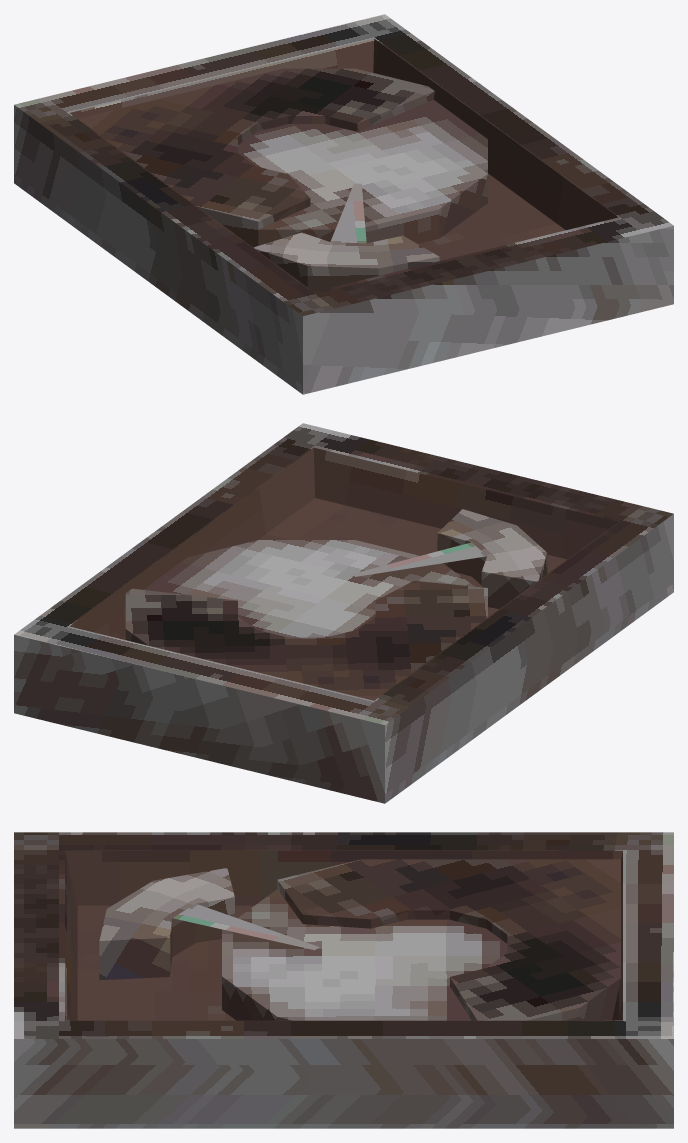
File: item_harddrive.glb
The picture shows the model from 3 angles, top to bottom: view 1: azimuth 30°, elevation 25°; view 2: azimuth 150°, elevation 25°; view 3: azimuth 270°, elevation 25°; orthographic projection. The views are drawn at different scales.
Parts seen in each view (by area): view 1: Harddrive; view 2: Harddrive; view 3: Harddrive.
Boxes of the visible parts, x1,y1,x2,y2 form: Harddrive: (14, 14, 673, 394); Harddrive: (14, 423, 673, 803); Harddrive: (14, 832, 673, 1128).
Size of the model in its own units: 0.3291 by 0.0666 by 0.444.
Materials: 1 (1 with a texture image).
